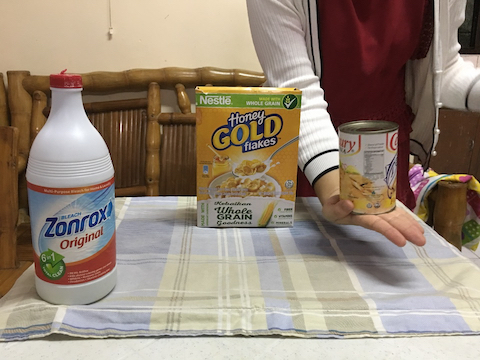bottle: (27, 71, 126, 305)
box: (188, 83, 310, 234)
can: (334, 116, 403, 214)
